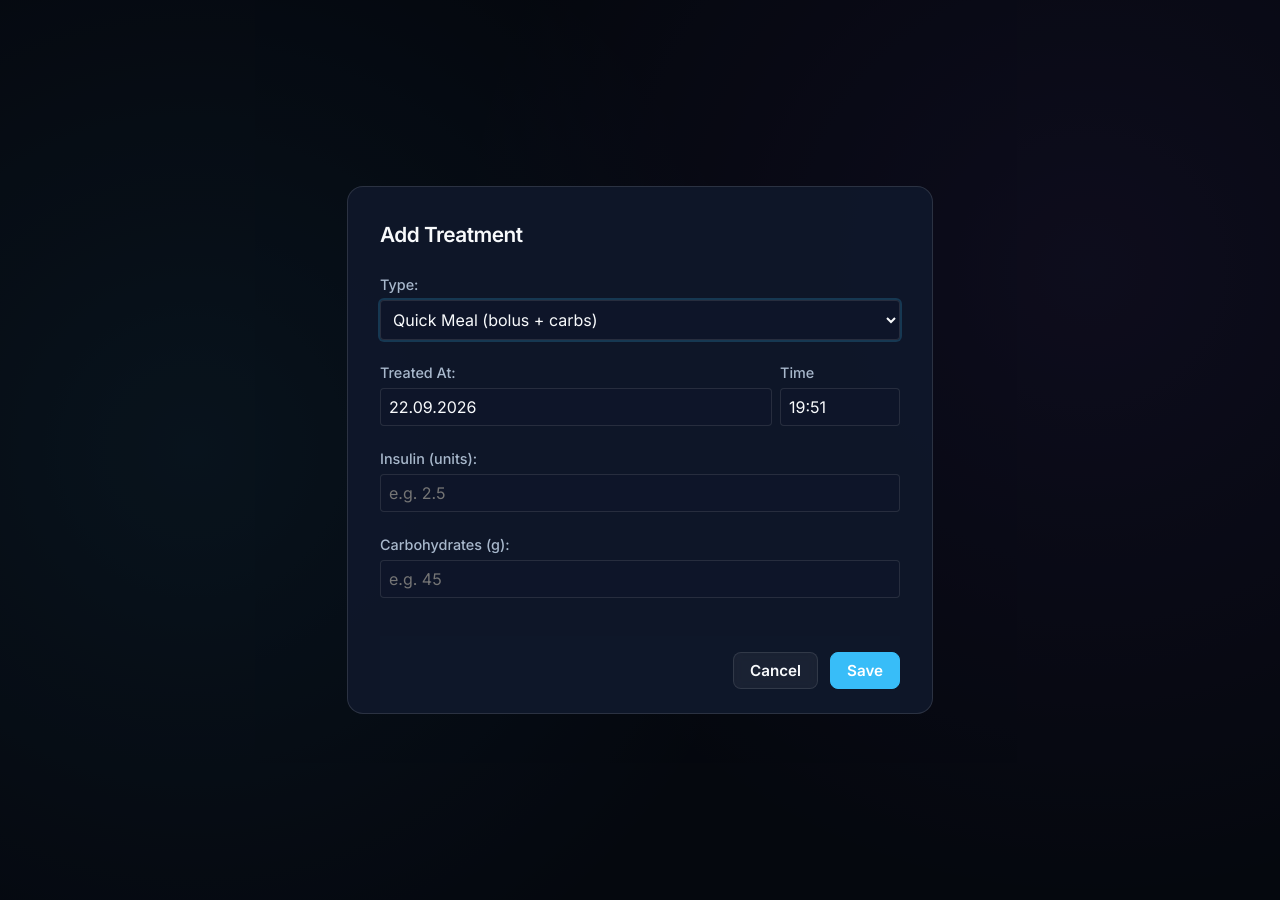
Test case: AddTreatmentModal › submitting empty BOLUS form shows validation error
Select "Bolus" in the dropdown at (640, 320), box [380,300,900,340]
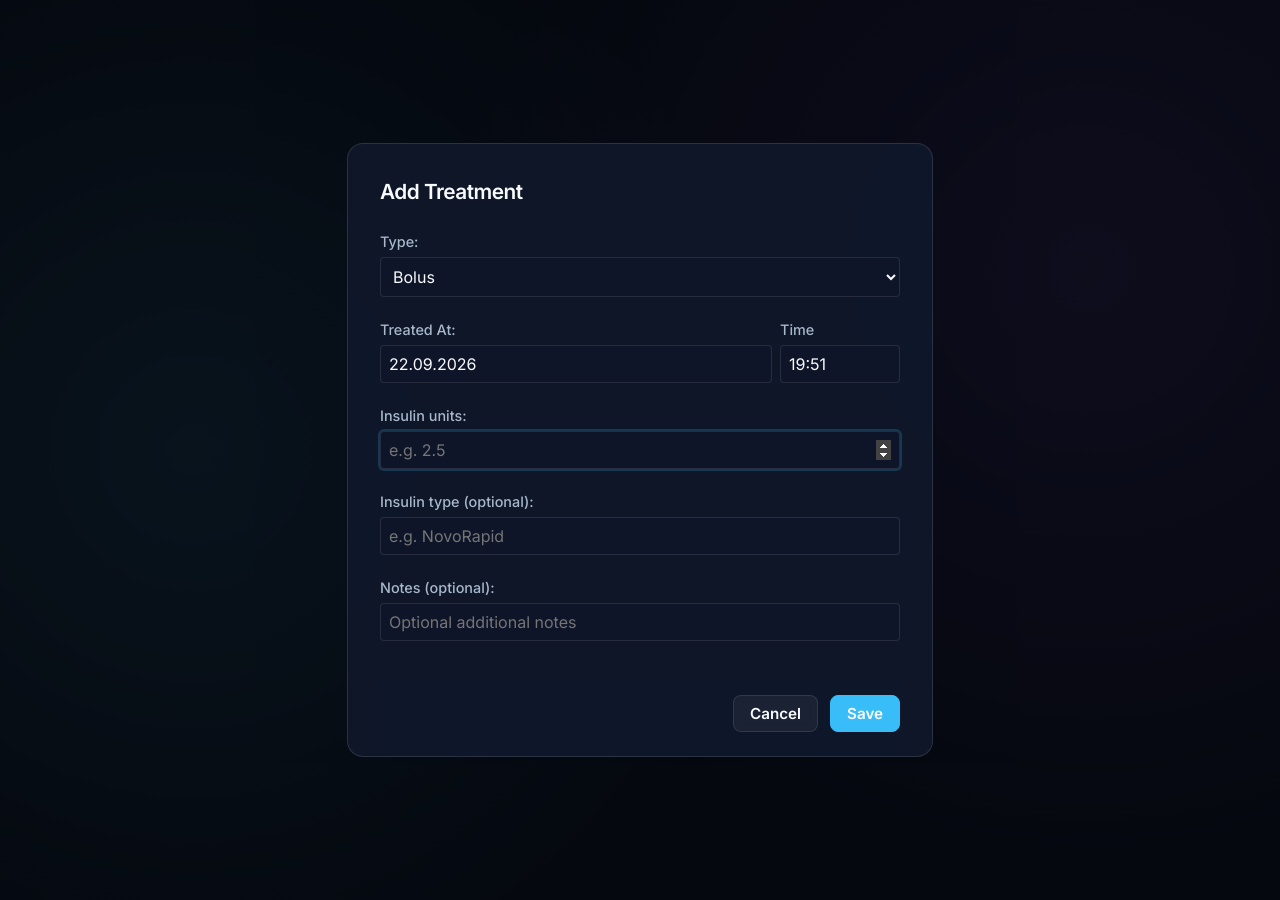
Submit the form, box [380,231,900,756]
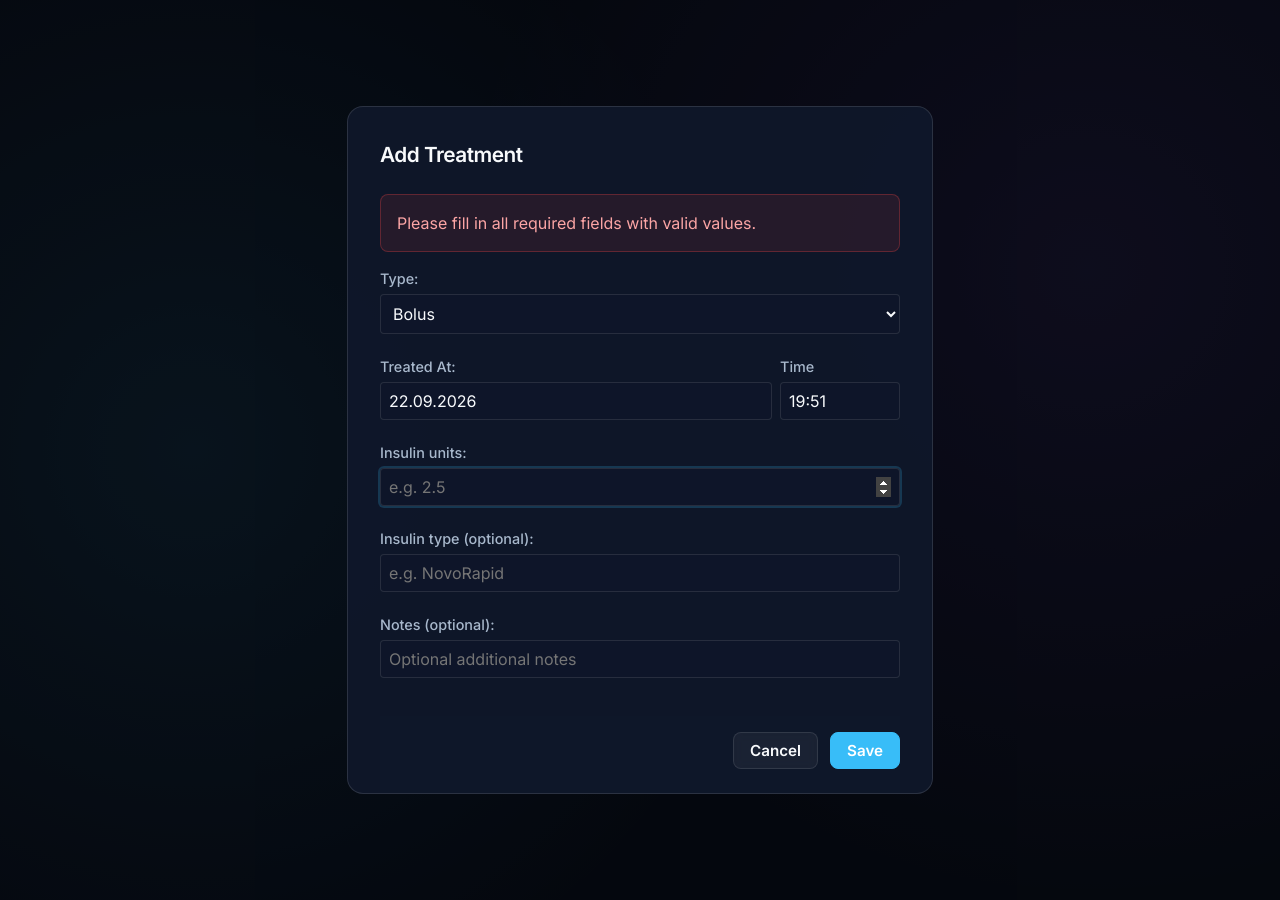
expect the message "Please fill in all required fields with valid values." is shown: met, box [380,194,900,252]
